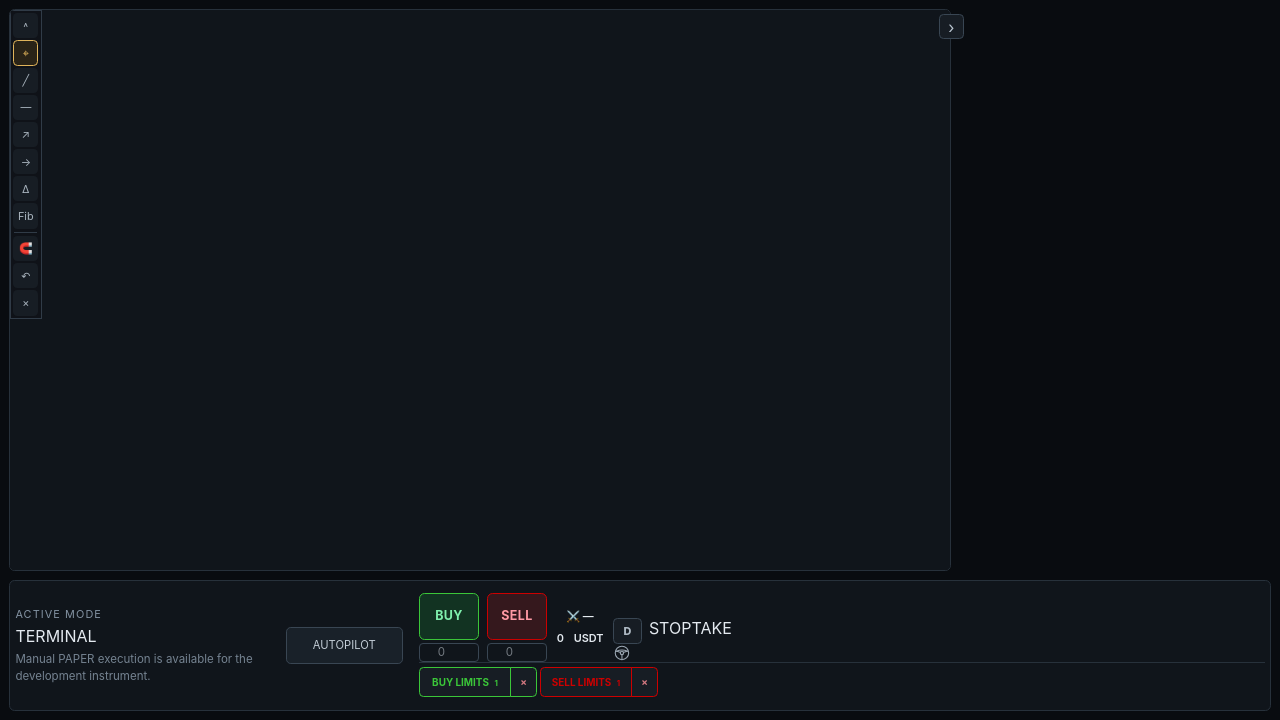
Test: routes the real LIVE side-cancel control only to LIVE and leaves the opposite side alone
Click the button named "Cancel all Buy Limit orders for ONGUSDT": (524, 682) 510,667 -> 537,697
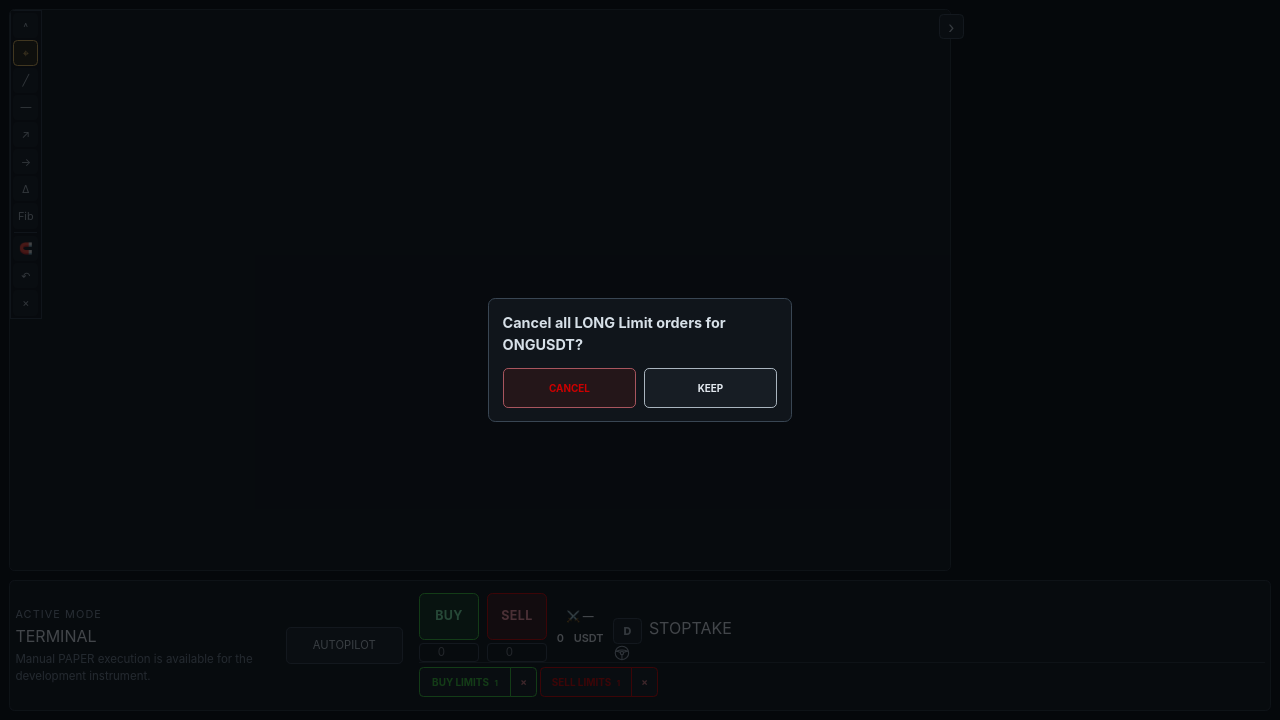
Click the button "CANCEL": (570, 388) 503,368 -> 636,408
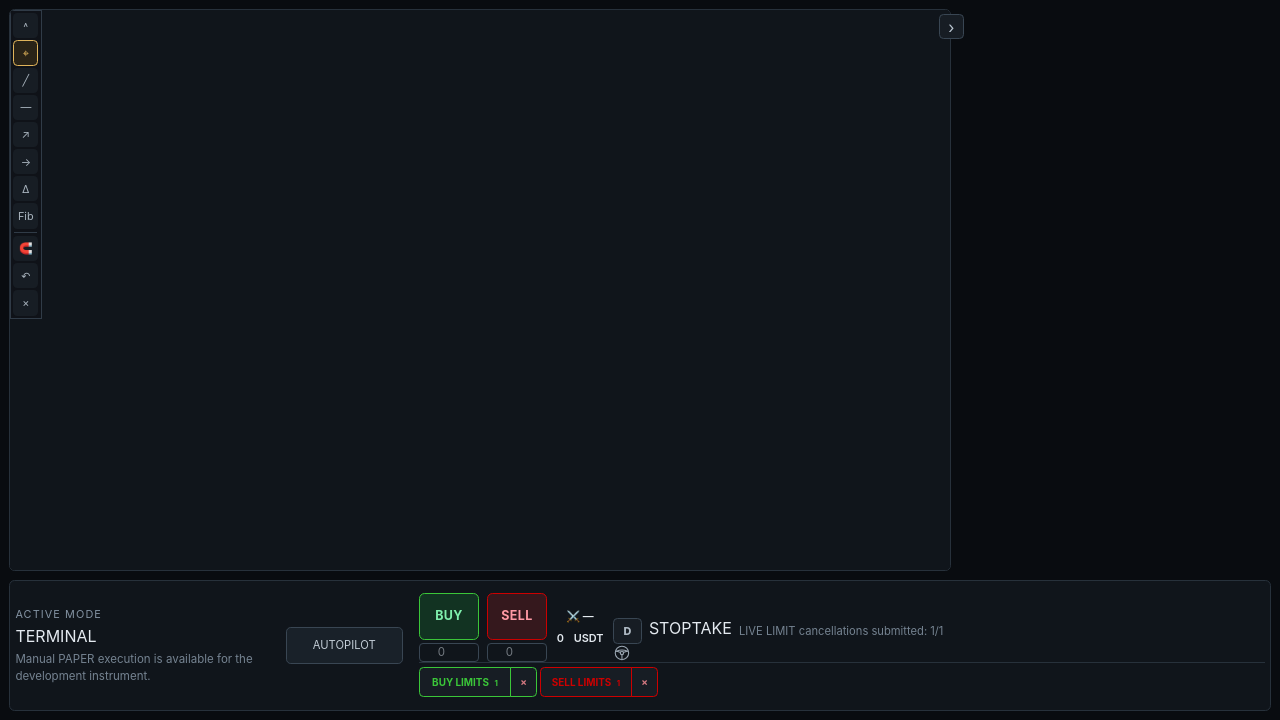
Result: the text "LIVE LIMIT cancellations submitted: 1/1" is shown at 739,623 -> 944,640
